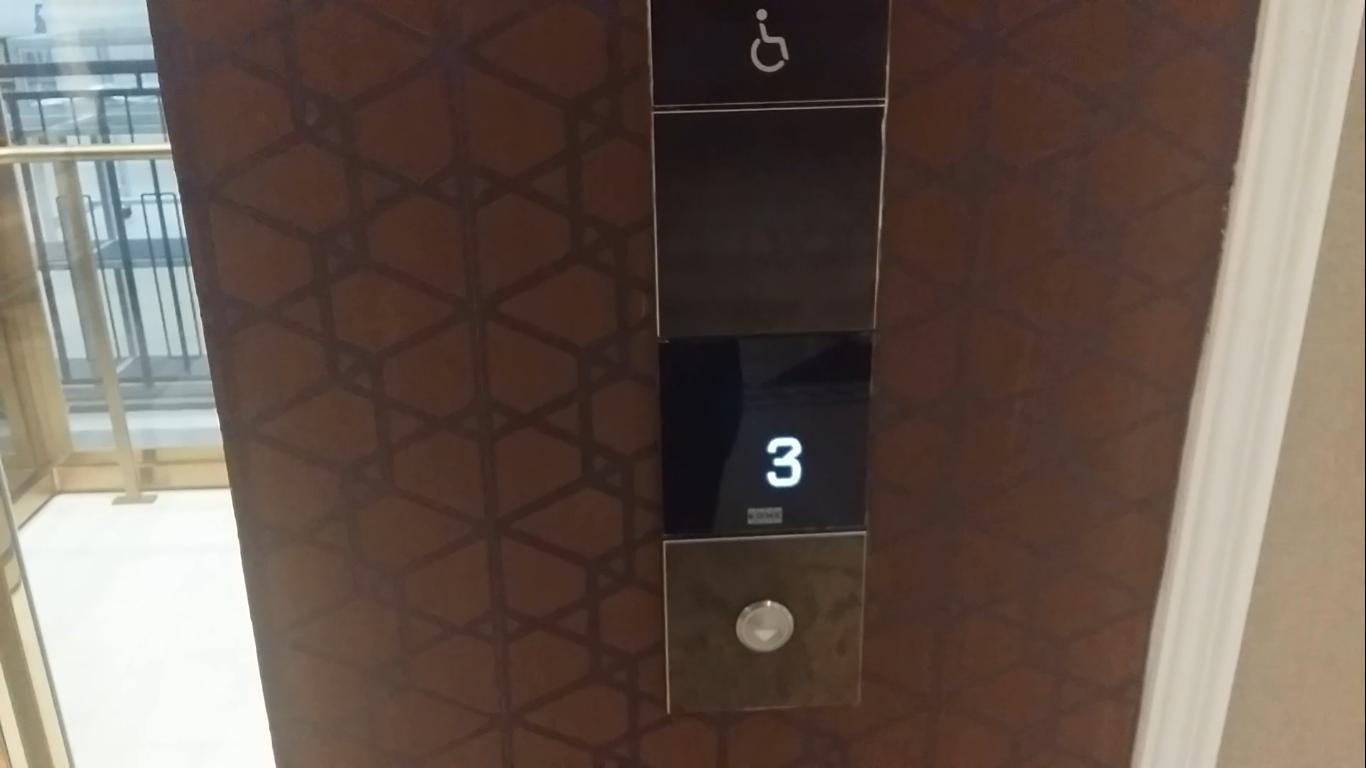CH: (730, 5, 810, 81)
down: (735, 600, 795, 654)
led: (658, 333, 873, 542)
